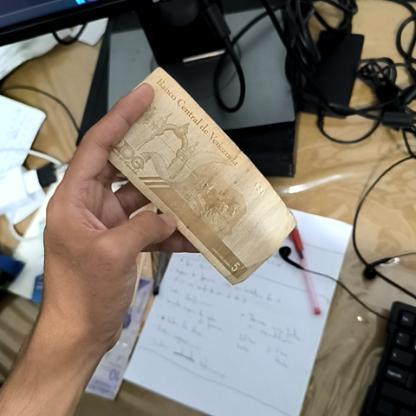five-back-vef: (95, 66, 297, 286)
